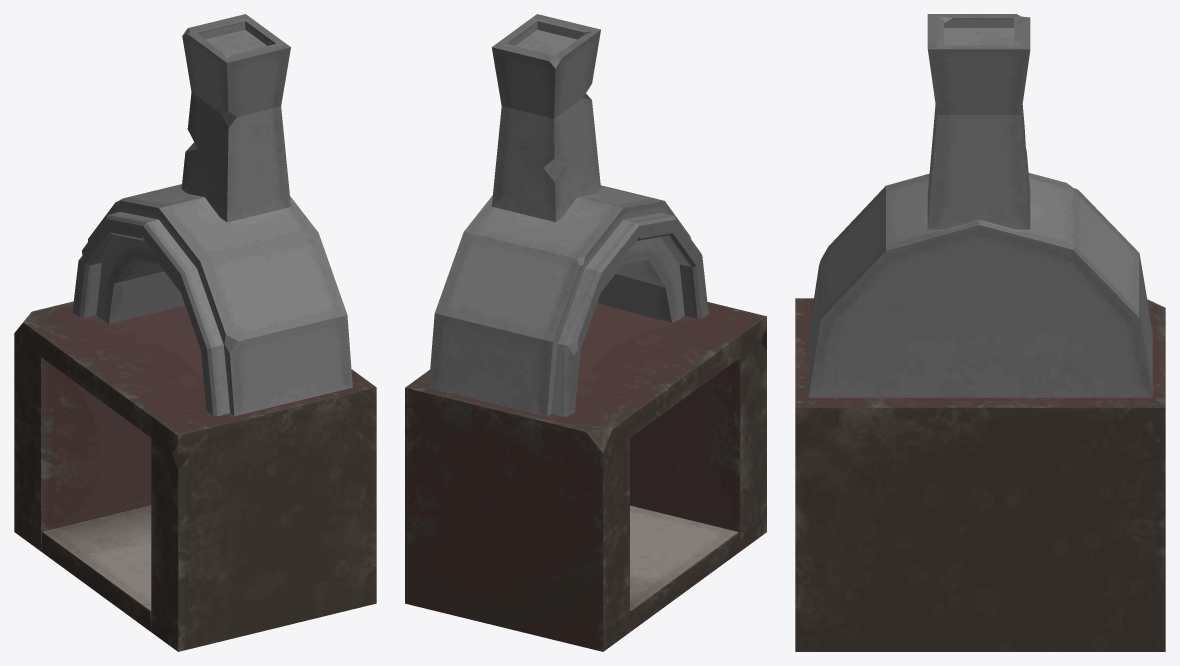
The model's file is kamin.gltf.
3 renders of one model, left to right at view 1: azimuth 30°, elevation 25°; view 2: azimuth 150°, elevation 25°; view 3: azimuth 270°, elevation 25°, orthographic. The views are drawn at different scales.
Visible parts, largest first — view 1: Medieval oven.001; view 2: Medieval oven.001; view 3: Medieval oven.001.
Part boxes in pixels (x1,y1,x2,y2): Medieval oven.001: (14, 14, 376, 651); Medieval oven.001: (405, 14, 766, 651); Medieval oven.001: (795, 14, 1165, 651).
Bounding box in the file's own units: 1.37 × 3.44 × 1.96.
Materials: 1 (1 with a texture image).
